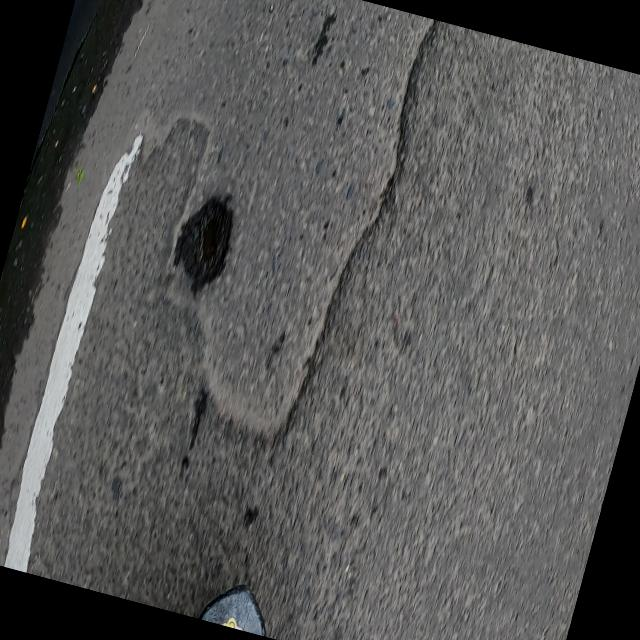Lubang: (174, 197, 232, 293)
